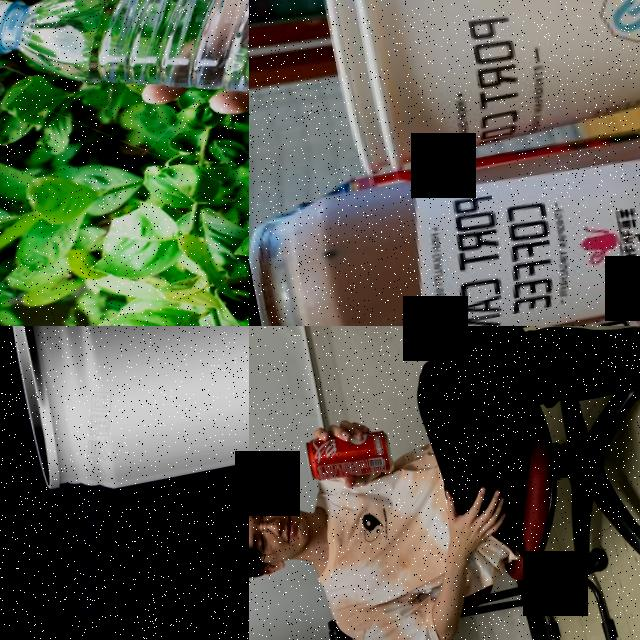bottle: (0, 0, 249, 200)
can: (249, 85, 640, 326), (0, 326, 249, 505), (302, 420, 396, 487)
cup: (315, 0, 640, 180)
